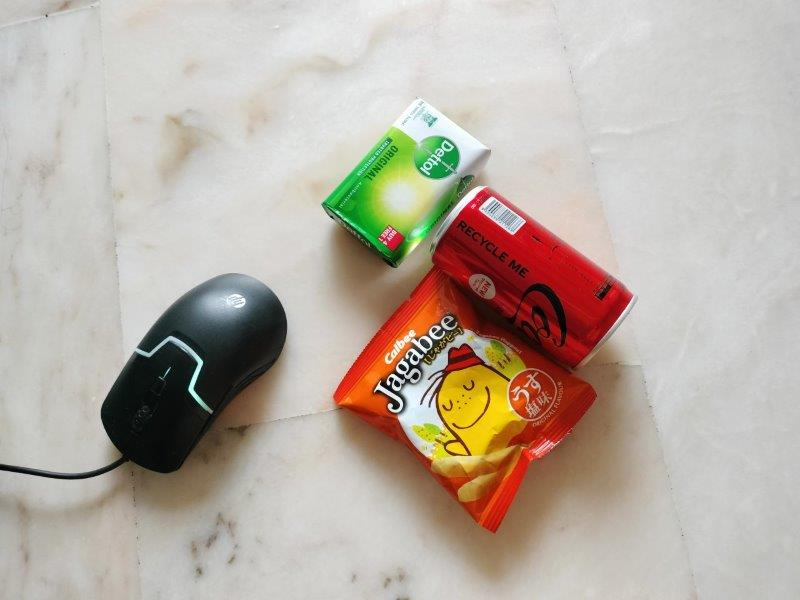Coke: (430, 186, 635, 365)
Dettol: (325, 98, 485, 263)
Jagabee: (336, 265, 598, 531)
